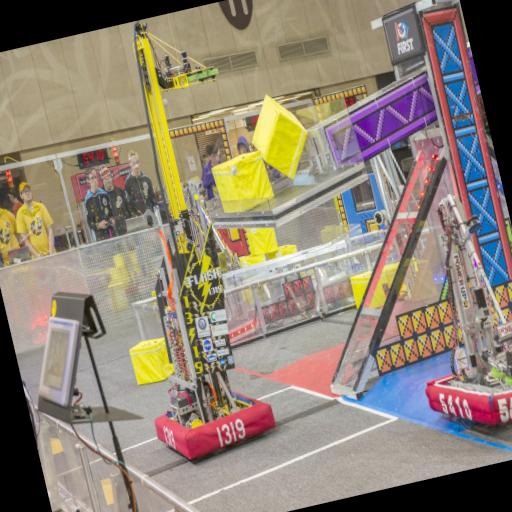robot: (64, 14, 281, 472), (375, 181, 512, 446)
